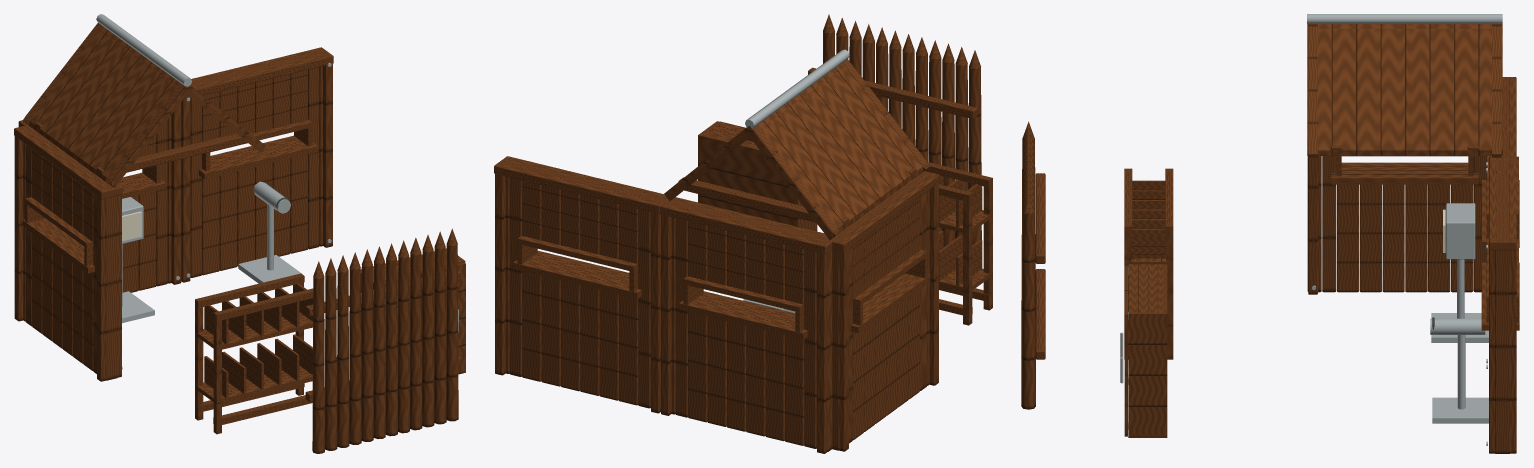
The model's file is fortified-compound-expansion-construction-and-service--338967ca__27139.glb.
3 renders of one model, left to right at view 1: azimuth 30°, elevation 25°; view 2: azimuth 150°, elevation 25°; view 3: azimuth 270°, elevation 25°, orthographic. The views are drawn at different scales.
Visible parts, largest first — view 1: 001-gatehouse-side-wall/0, 008-palisade-spiked/0, 002-gatehouse-side-wall/0, 003-modular-survival-base-builder--roof-gable-span/0, 007-weapon-check-rack/0, 000-gatehouse-side-wall/0, 004-watch-scope-mount/0, 005-searchlight-plinth/0, 003-modular-survival-base-builder--roof-gable-span/1, 006-visitor-locker-bank/cabinet-door-1/wood, 005-searchlight-plinth/1; view 2: 000-gatehouse-side-wall/0, 001-gatehouse-side-wall/0, 002-gatehouse-side-wall/0, 003-modular-survival-base-builder--roof-gable-span/0, 008-palisade-spiked/0, 007-weapon-check-rack/0, 006-visitor-locker-bank/0, 003-modular-survival-base-builder--roof-gable-span/1; view 3: 003-modular-survival-base-builder--roof-gable-span/0, 002-gatehouse-side-wall/0, 001-gatehouse-side-wall/0, 006-visitor-locker-bank/0, 008-palisade-spiked/0, 007-weapon-check-rack/0, 004-watch-scope-mount/0, 005-searchlight-plinth/0, 000-gatehouse-side-wall/0, 003-modular-survival-base-builder--roof-gable-span/1, 006-visitor-locker-bank/cabinet-door-1/wood.
Boxes of the visible parts, x1,y1,x2,y2 form: 001-gatehouse-side-wall/0: (181,47,333,282); 008-palisade-spiked/0: (305,228,460,453); 002-gatehouse-side-wall/0: (14,125,122,381); 003-modular-survival-base-builder--roof-gable-span/0: (22,23,265,188); 007-weapon-check-rack/0: (195,273,313,434); 000-gatehouse-side-wall/0: (18,102,181,292); 004-watch-scope-mount/0: (238,181,302,283); 005-searchlight-plinth/0: (122,197,154,323); 003-modular-survival-base-builder--roof-gable-span/1: (96,14,191,86); 006-visitor-locker-bank/cabinet-door-1/wood: (421,262,465,374); 005-searchlight-plinth/1: (122,211,141,241); 000-gatehouse-side-wall/0: (660,197,836,453); 001-gatehouse-side-wall/0: (494,156,668,413); 002-gatehouse-side-wall/0: (824,171,939,451); 003-modular-survival-base-builder--roof-gable-span/0: (664,59,930,239); 008-palisade-spiked/0: (808,14,981,246); 007-weapon-check-rack/0: (925,162,992,325); 006-visitor-locker-bank/0: (698,121,816,231); 003-modular-survival-base-builder--roof-gable-span/1: (745,49,849,128); 003-modular-survival-base-builder--roof-gable-span/0: (1307,24,1502,157); 002-gatehouse-side-wall/0: (1307,156,1488,294); 001-gatehouse-side-wall/0: (1481,159,1519,453); 006-visitor-locker-bank/0: (1128,264,1167,437); 008-palisade-spiked/0: (1021,121,1045,409); 007-weapon-check-rack/0: (1124,168,1173,359); 004-watch-scope-mount/0: (1430,318,1488,423); 005-searchlight-plinth/0: (1431,203,1488,342); 000-gatehouse-side-wall/0: (1481,77,1519,247); 003-modular-survival-base-builder--roof-gable-span/1: (1307,14,1502,23); 006-visitor-locker-bank/cabinet-door-1/wood: (1124,291,1127,436).
Size of the model in its own units: 4.17 by 3.57 by 5.1.
Materials: 4 (1 with a texture image).
